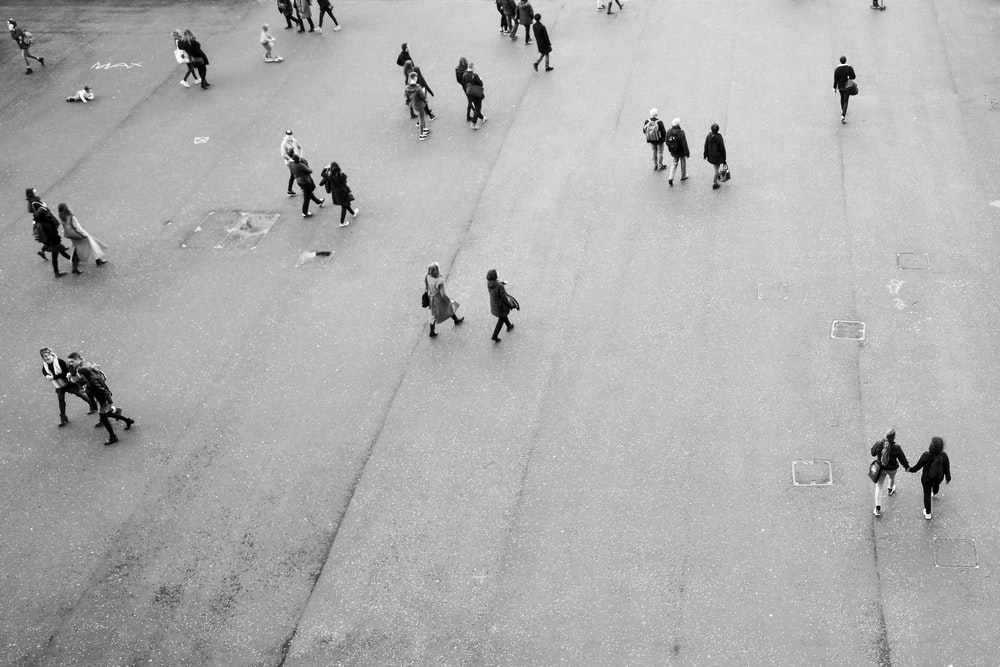person: (78, 366, 136, 445), (865, 424, 914, 517), (39, 347, 94, 427), (908, 434, 958, 522), (59, 200, 113, 278), (419, 261, 470, 338), (63, 351, 118, 414), (482, 268, 524, 346), (31, 202, 75, 276), (17, 187, 60, 262), (321, 161, 363, 231), (2, 14, 48, 75), (282, 148, 322, 216), (276, 128, 312, 202), (702, 119, 737, 195), (182, 26, 219, 90), (664, 117, 697, 188), (835, 51, 868, 122), (407, 74, 438, 149), (462, 61, 492, 134), (640, 106, 670, 173), (394, 40, 429, 95), (526, 12, 555, 75), (170, 24, 193, 90), (250, 24, 286, 65), (512, 1, 537, 44), (317, 1, 346, 34), (64, 83, 104, 104), (295, 1, 318, 33), (276, 1, 295, 34)
